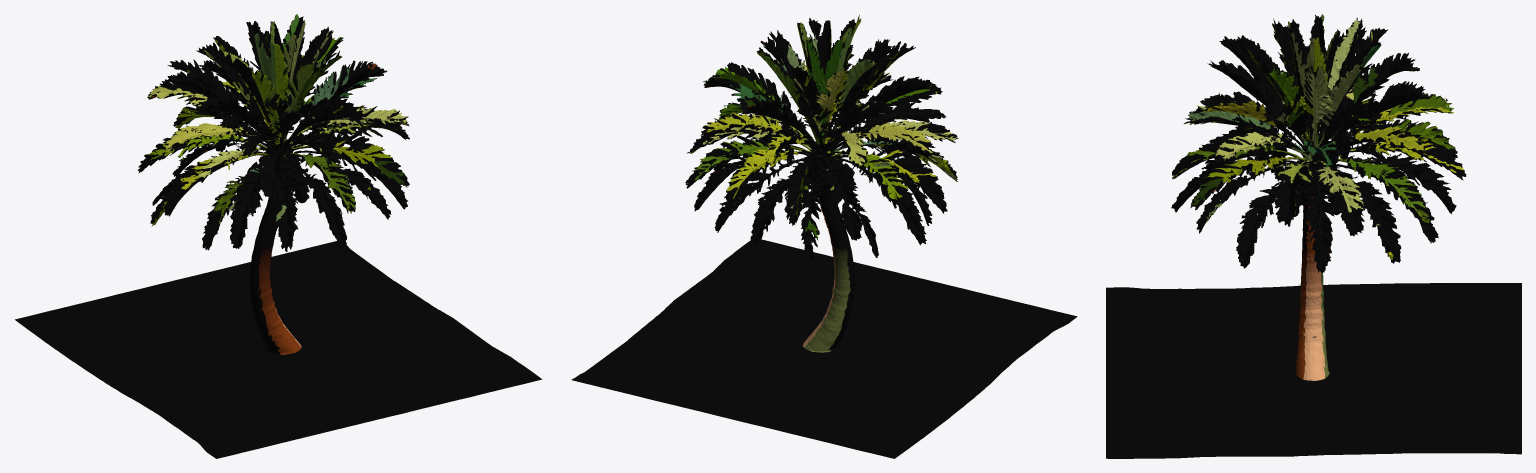
File: palm2.glb
3 views of the same model, side by side, from view 1: azimuth 30°, elevation 25°; view 2: azimuth 150°, elevation 25°; view 3: azimuth 270°, elevation 25° (orthographic). The views are drawn at different scales.
Visible parts, largest first — view 1: palm2_LOW; view 2: palm2_LOW; view 3: palm2_LOW.
Boxes of the visible parts, x1,y1,x2,y2 form: palm2_LOW: (15,14,542,458); palm2_LOW: (572,14,1077,458); palm2_LOW: (1106,14,1521,458).
Bounding box in the file's own units: 4.87 × 4.5 × 4.87.
1 material, 1 textured.
